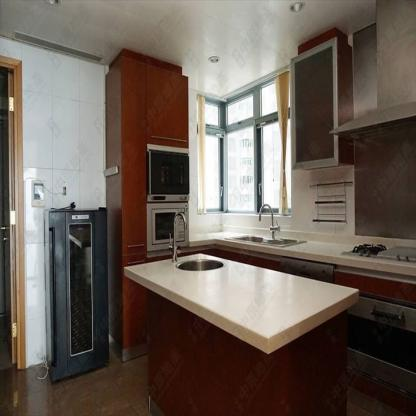Cupboard: (121, 56, 189, 253), (290, 37, 338, 168)
Exhaust Hood: (331, 0, 416, 143)
Faucet: (255, 201, 279, 240), (171, 211, 187, 260)
Microwave: (148, 203, 189, 251)
Oven: (346, 293, 416, 405), (146, 143, 189, 202)
Sink: (227, 234, 306, 247), (175, 257, 224, 271)
Stove: (338, 240, 416, 262)
